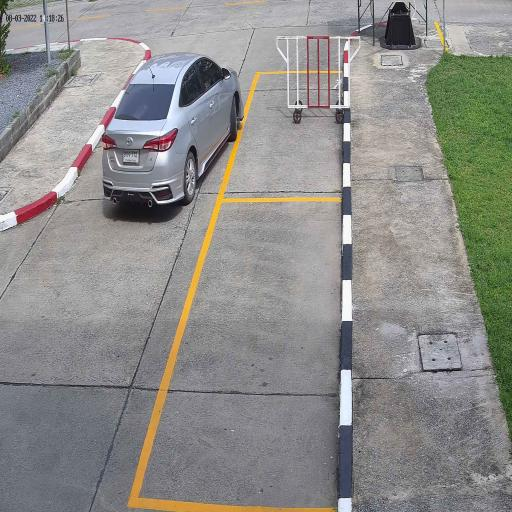car: (101, 52, 245, 210)
